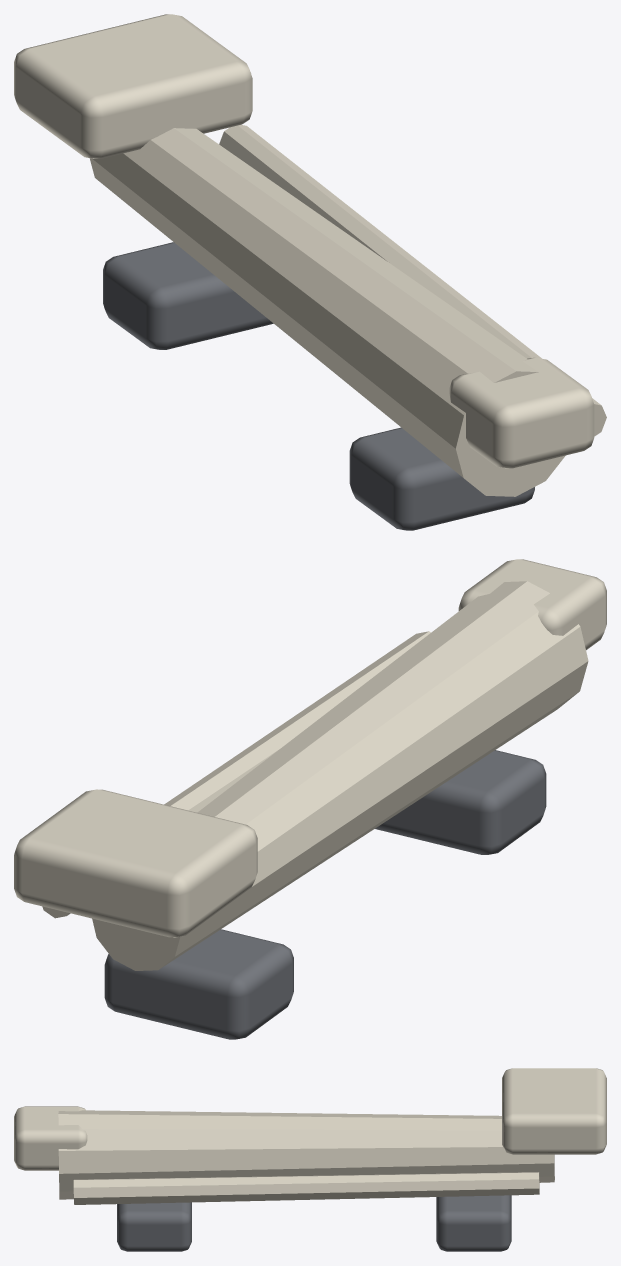
Rendered from human-anatomy-and-education-kit-lower-leg-bones-101b80e3__38947.glb.
The picture shows the model from 3 angles, top to bottom: view 1: azimuth 30°, elevation 25°; view 2: azimuth 150°, elevation 25°; view 3: azimuth 270°, elevation 25°; orthographic projection. The views are drawn at different scales.
Visible parts, largest first — view 1: lower-leg-bones; view 2: lower-leg-bones; view 3: lower-leg-bones.
Boxes of the visible parts, left/top/right/bottom form: lower-leg-bones: left=14, top=14, right=606, bottom=530; lower-leg-bones: left=14, top=559, right=606, bottom=1039; lower-leg-bones: left=14, top=1068, right=606, bottom=1251.
Bounding box in the file's own units: 0.0955 × 0.105 × 0.395.
